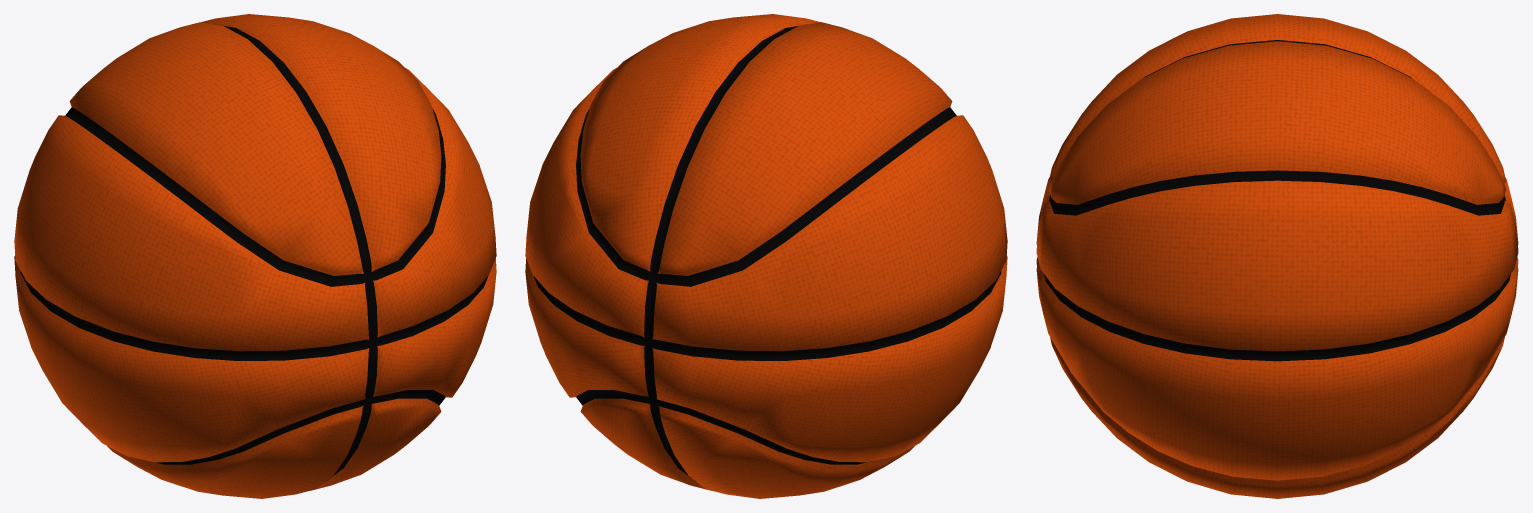
Rendered from basketball.glb.
3 views of the same model, side by side, from view 1: azimuth 30°, elevation 25°; view 2: azimuth 150°, elevation 25°; view 3: azimuth 270°, elevation 25° (orthographic).
Visible parts, largest first — view 1: Cube_0; view 2: Cube_0; view 3: Cube_0.
Part boxes in pixels (x1,y1,x2,y2): Cube_0: (14, 14, 496, 498); Cube_0: (525, 14, 1007, 498); Cube_0: (1036, 14, 1518, 498).
Bounding box in the file's own units: 0.2976 × 0.2976 × 0.2967.
2 materials, 1 textured.
